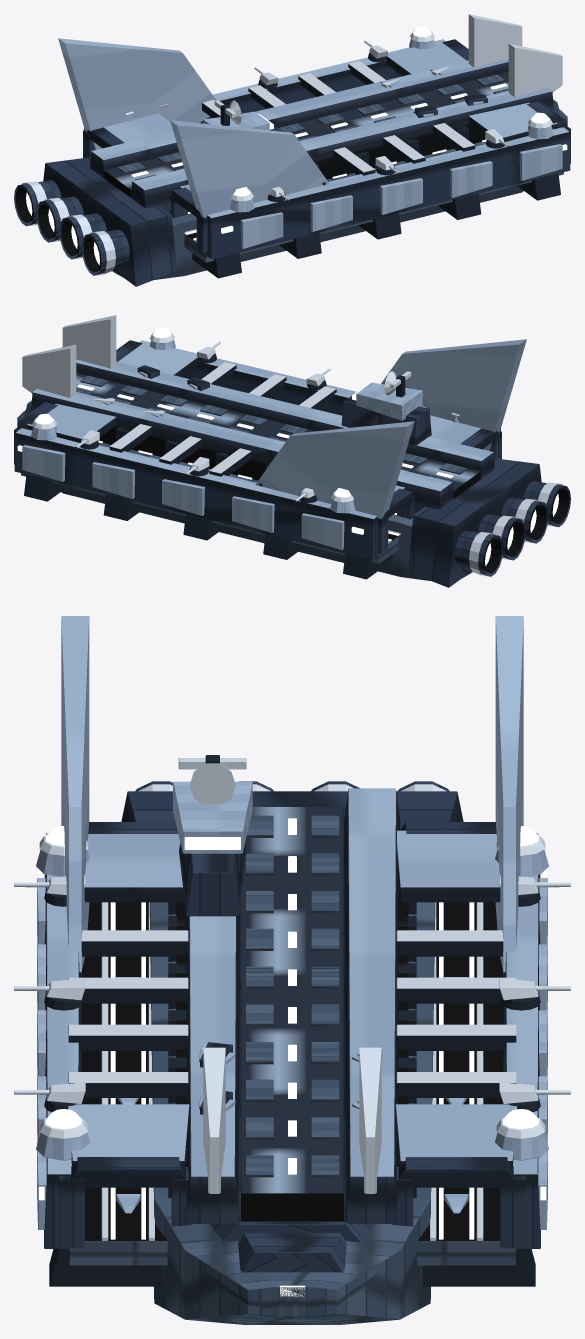
The model's file is carrier.glb.
3 views of the same model, one above another, from view 1: azimuth 30°, elevation 25°; view 2: azimuth 150°, elevation 25°; view 3: azimuth 270°, elevation 25° (orthographic). The views are drawn at different scales.
Visible parts, largest first — view 1: faction-rhimetals_carrier; view 2: faction-rhimetals_carrier; view 3: faction-rhimetals_carrier.
Part boxes in pixels (x1=…): faction-rhimetals_carrier: x1=14, y1=14, x2=570, y2=286; faction-rhimetals_carrier: x1=14, y1=315, x2=570, y2=587; faction-rhimetals_carrier: x1=14, y1=616, x2=570, y2=1324.
Bounding box in the file's own units: 55 × 18.72 × 27.45.
Materials: 1 (1 with a texture image).
